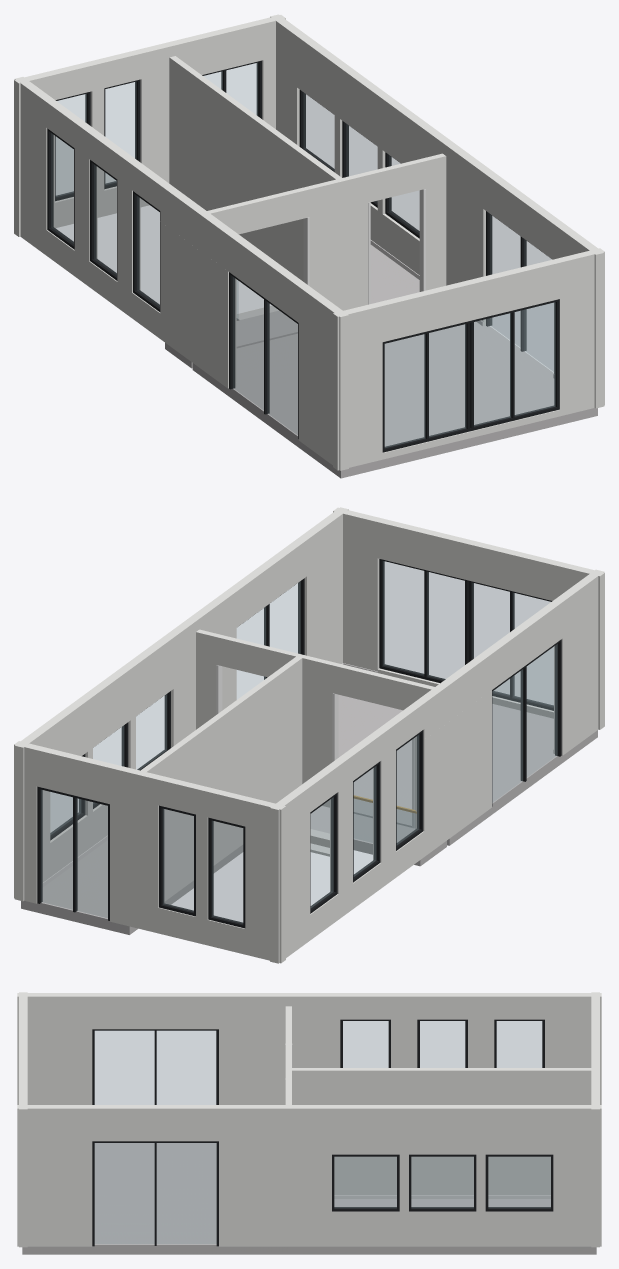
The model's file is int_est_S9_2.glb.
3 views of the same model, one above another, from view 1: azimuth 30°, elevation 25°; view 2: azimuth 150°, elevation 25°; view 3: azimuth 270°, elevation 25° (orthographic). The views are drawn at different scales.
Parts seen in each view (by area): view 1: WALL_2, WALL_4, WALL_5, ROOM, WALL_0, WALL_1, WALL_3; view 2: WALL_2, WALL_1, WALL_5, WALL_4, WALL_0, ROOM, WALL_3; view 3: WALL_5, WALL_2, ROOM, WALL_3, WALL_0, WALL_1, WALL_4.
Boxes of the visible parts, x1,y1,x2,y2 form: WALL_2: [14, 77, 348, 470]; WALL_4: [333, 248, 604, 470]; WALL_5: [270, 14, 604, 408]; ROOM: [165, 240, 597, 478]; WALL_0: [160, 153, 446, 362]; WALL_1: [14, 15, 285, 236]; WALL_3: [169, 56, 341, 281]; WALL_2: [270, 569, 604, 963]; WALL_1: [14, 741, 285, 963]; WALL_5: [14, 507, 348, 901]; WALL_4: [333, 507, 604, 729]; WALL_0: [196, 629, 491, 831]; ROOM: [21, 663, 597, 934]; WALL_3: [141, 656, 302, 901]; WALL_5: [17, 1105, 601, 1246]; WALL_2: [17, 993, 601, 1104]; ROOM: [22, 1143, 596, 1254]; WALL_3: [292, 1068, 591, 1194]; WALL_0: [219, 1006, 340, 1104]; WALL_1: [591, 992, 599, 1247]; WALL_4: [19, 992, 27, 1247].
Bounding box in the file's own units: 6.7 × 3.85 × 13.98.
Materials: 7 (1 with a texture image).
